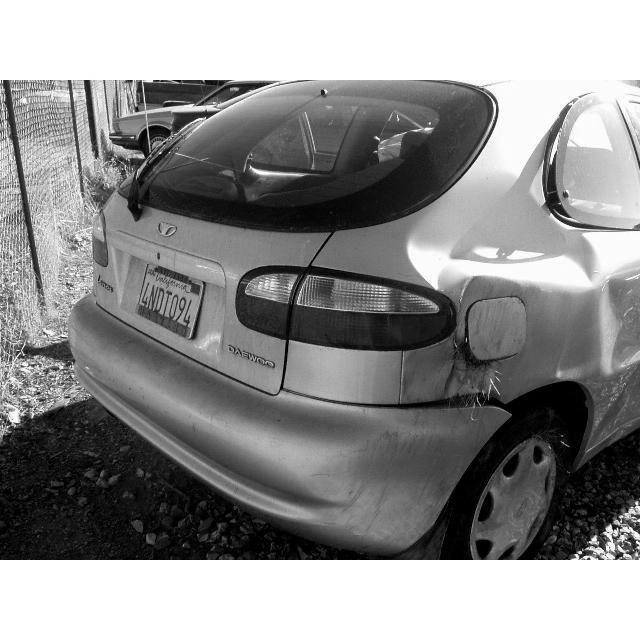quaterpanel-dent: (444, 198, 611, 427)
